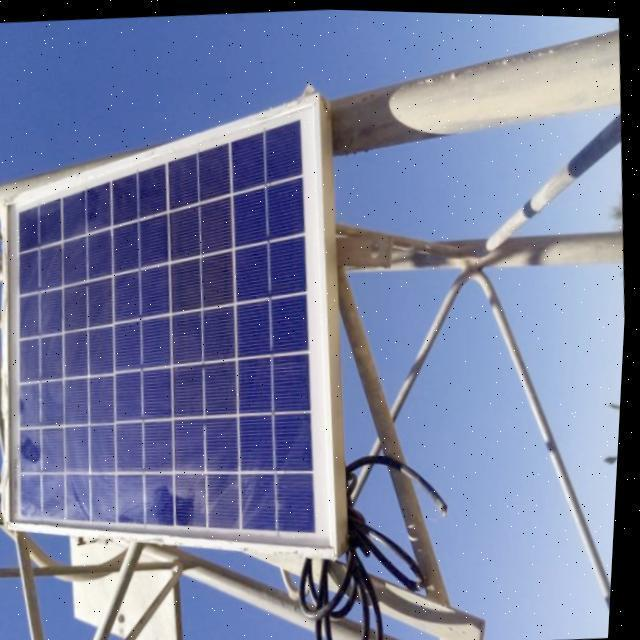Normal Solar Panel: (0, 87, 357, 572)
